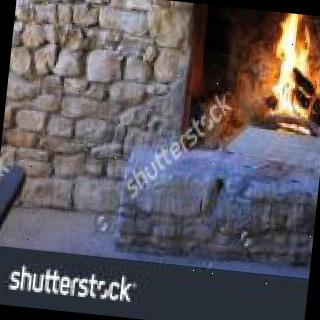fire: (261, 11, 320, 137)
